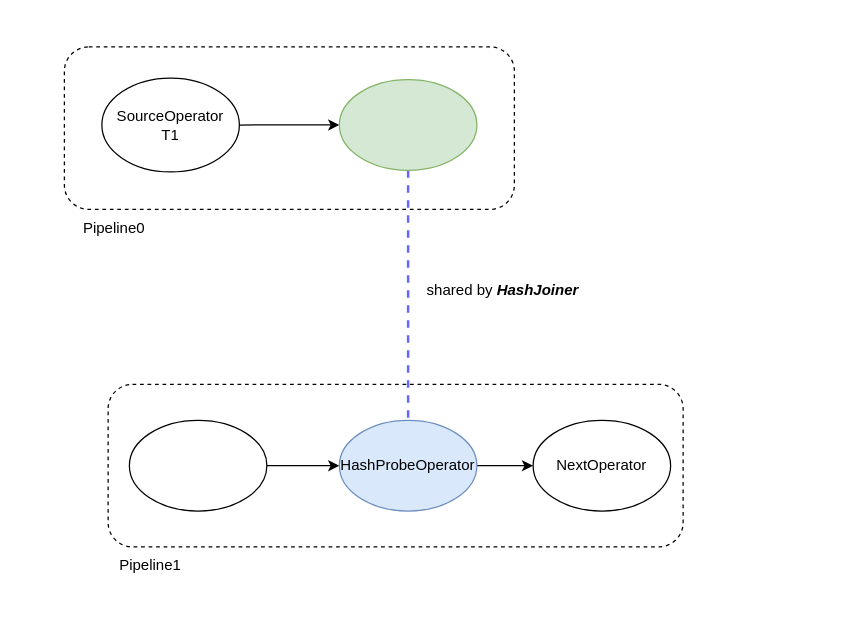
Image size: 855x630. Some labels were removed from this diagram. The centre of each missing label's shape, as x and y in pixels:
"HashBuildOperator" goes at point (407, 124).
"SourceOperator T2" goes at point (197, 465).
